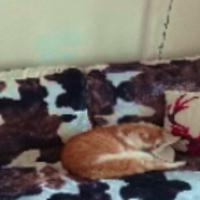asleep: (61, 122, 188, 180)
